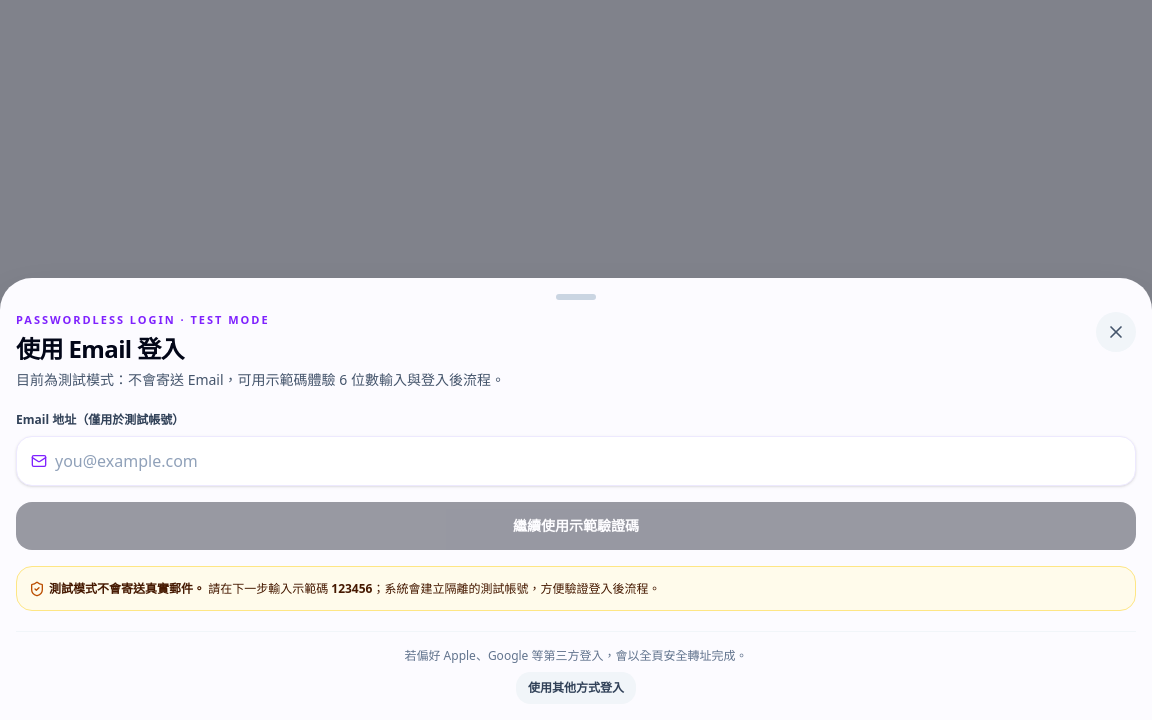
Test case: Email OTP 行動登入介面 › 明確說明不寄信測試模式，並提供 iPhone 六位數示範驗證碼流程
The image size is (1152, 720).
Expected: the text "測試模式不會寄送真實郵件。" is shown, [49,580,205,596]
Type "dine@example.com" into the field labelled "Email 地址" at {"x": 588, "y": 460}, box [55,448,1121,472]
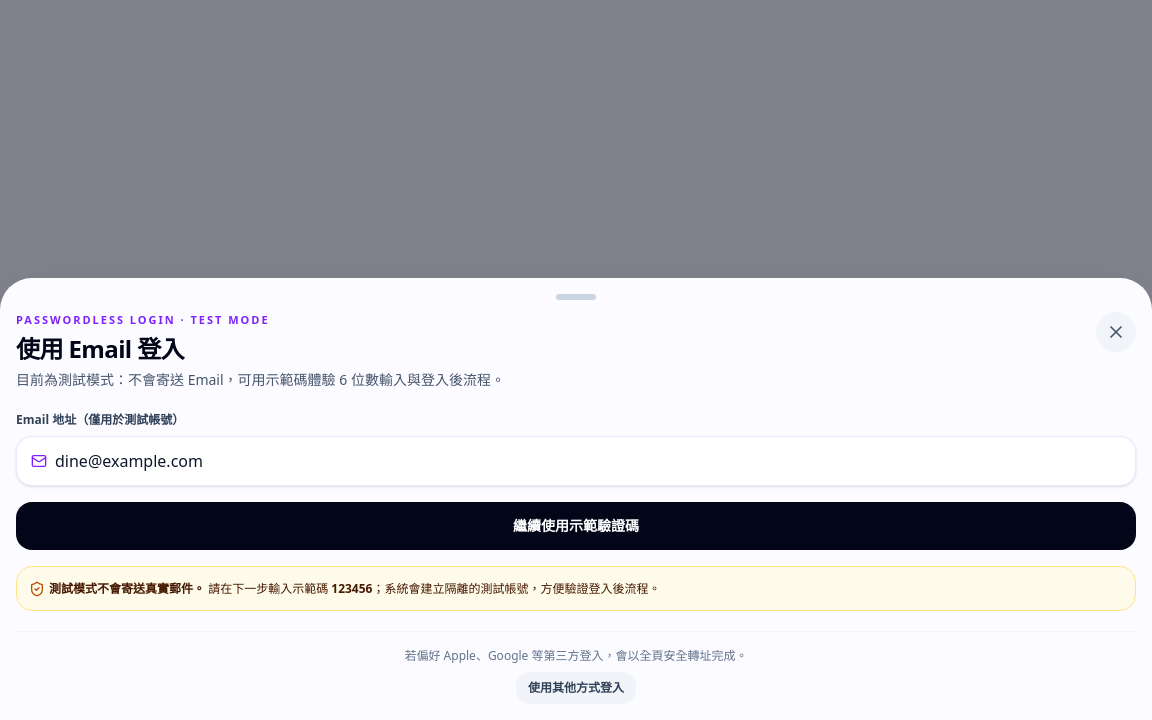
Click the button "繼續使用示範驗證碼" at {"x": 576, "y": 526}, box [16,502,1136,550]
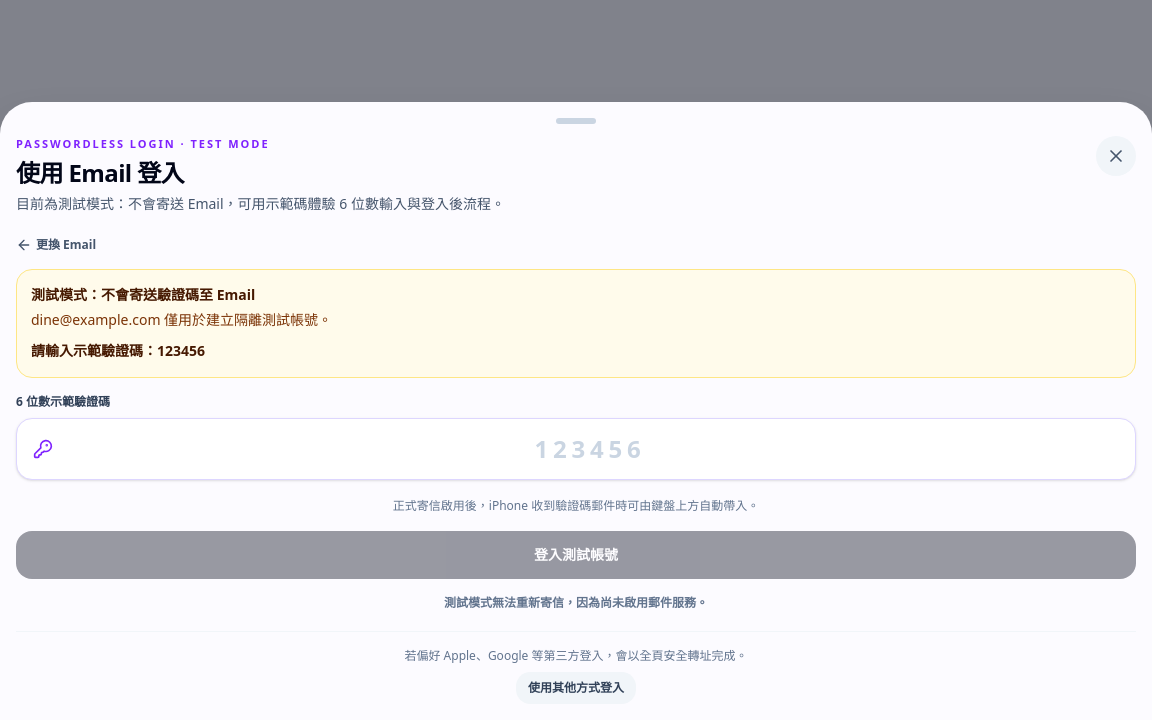
Expected: the field named "6 位數驗證碼" has attribute autocomplete="one-time-code"
Expected: the field named "6 位數驗證碼" has attribute inputmode="numeric"
Type "12abc34567" into the field named "6 位數驗證碼" at {"x": 590, "y": 448}, box [61,432,1119,464]
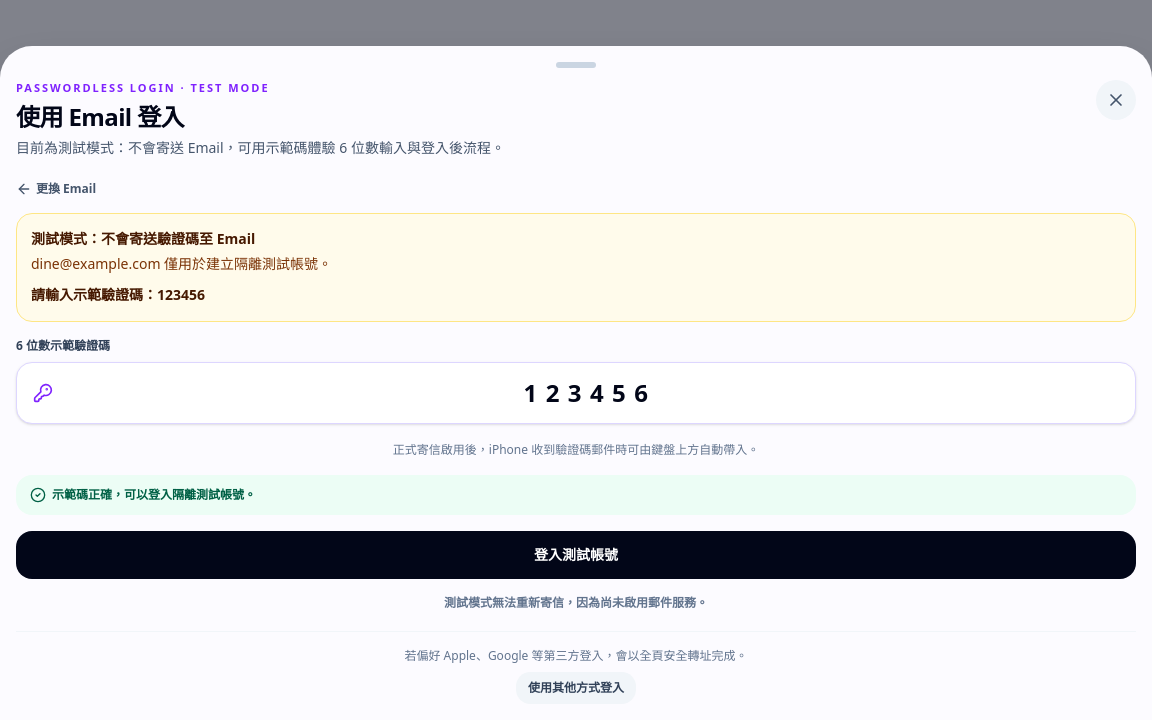
Expected: the field named "6 位數驗證碼" holds "123456", [61,376,1119,408]
Expected: the message shows "示範碼正確", [52,486,256,503]
Click the button "登入測試帳號" at {"x": 576, "y": 555}, box [16,531,1136,579]
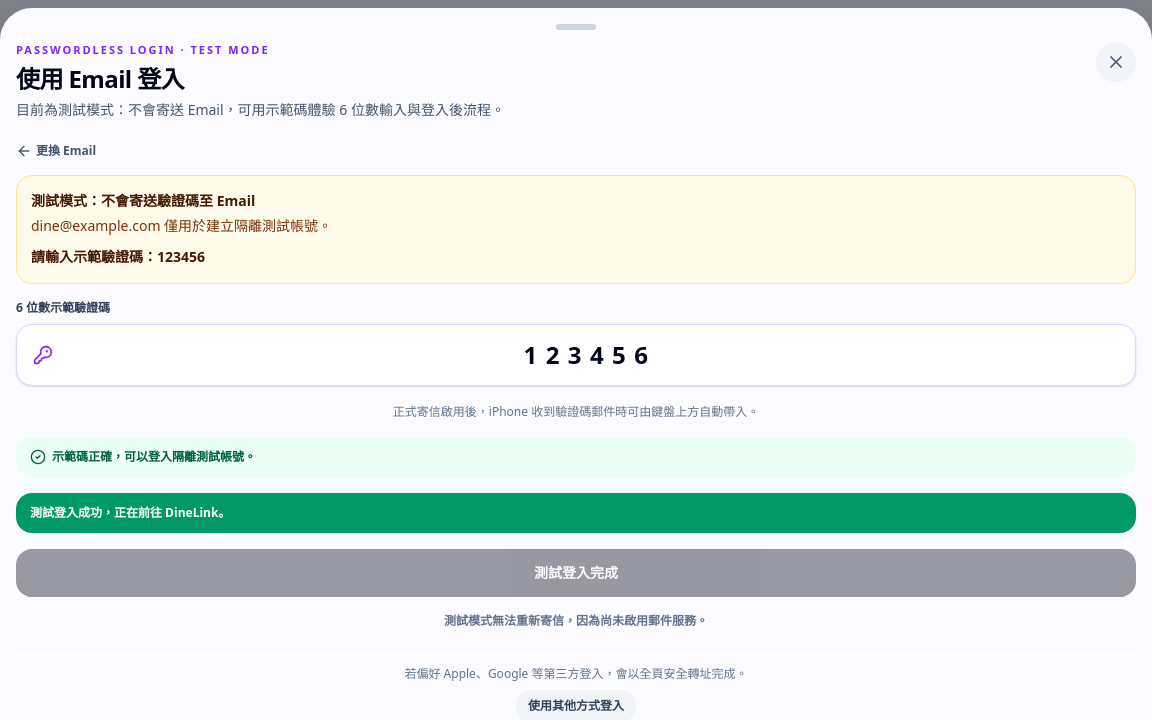
Expected: the text "測試登入成功，正在前往 DineLink。" is shown, [16,493,1136,533]
